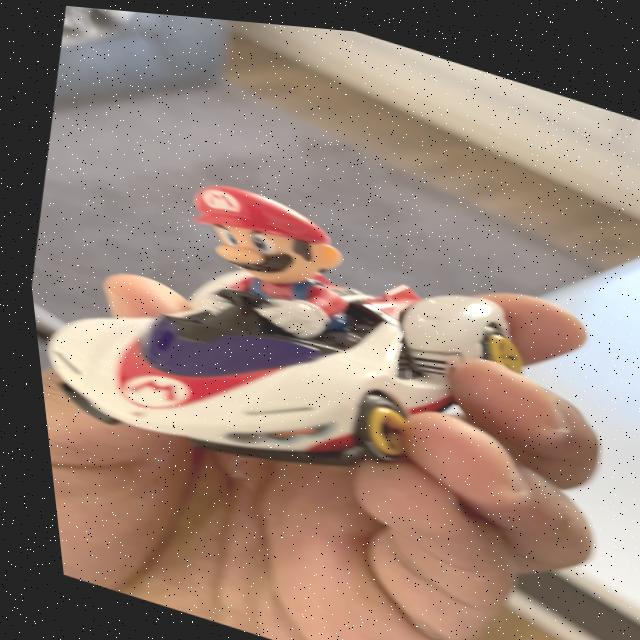mario: (10, 117, 572, 549)
